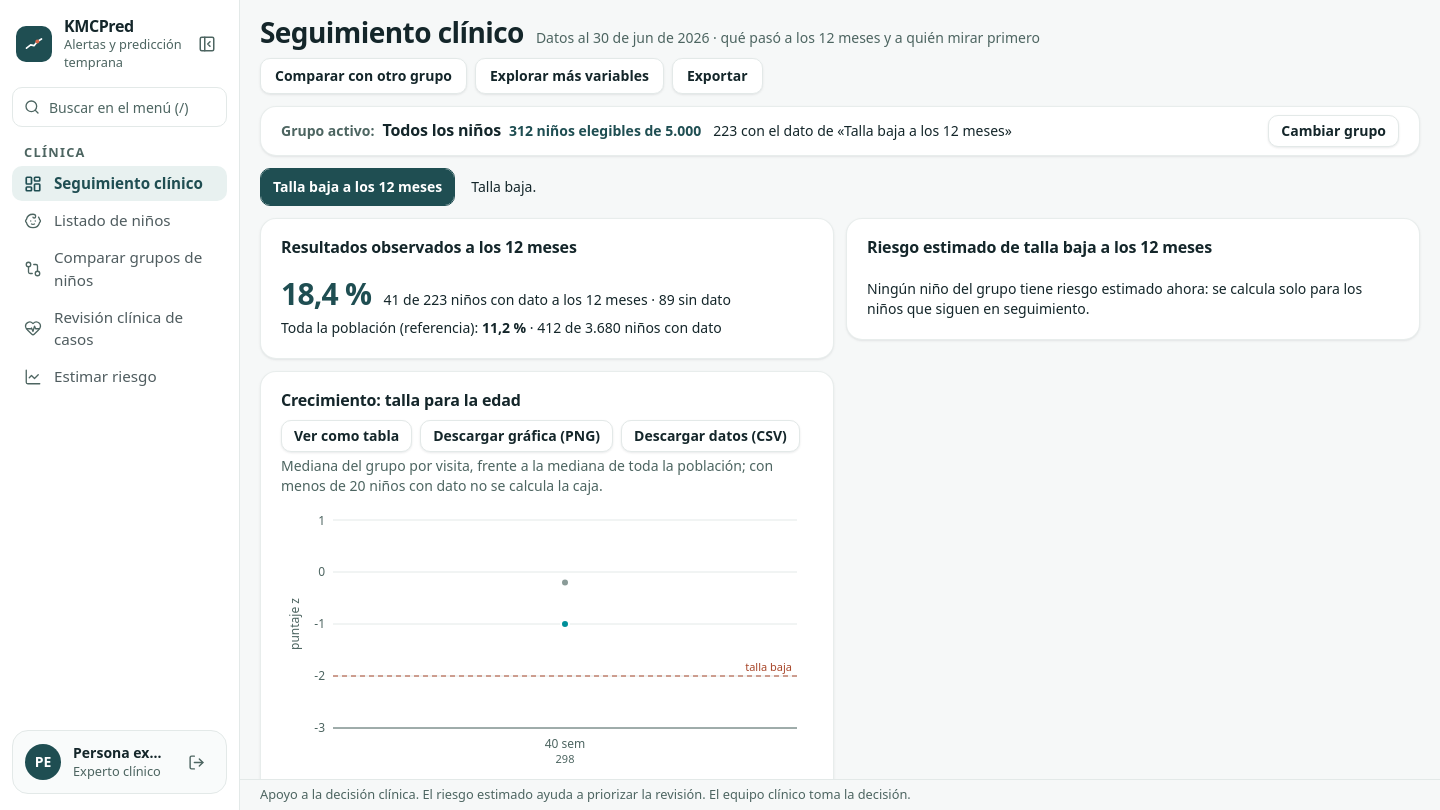
Scenario: el panel del grupo en la vista clínica es un cajón › el grupo guardado está arriba para un experto y quien solo consulta no lo ve; se habla de «grupo»
The width and height of the screenshot is (1440, 810).
Step 1. Click the button "Cambiar grupo" → coordinates (1334, 131), box [1268,115,1399,147]
(page scrolled)
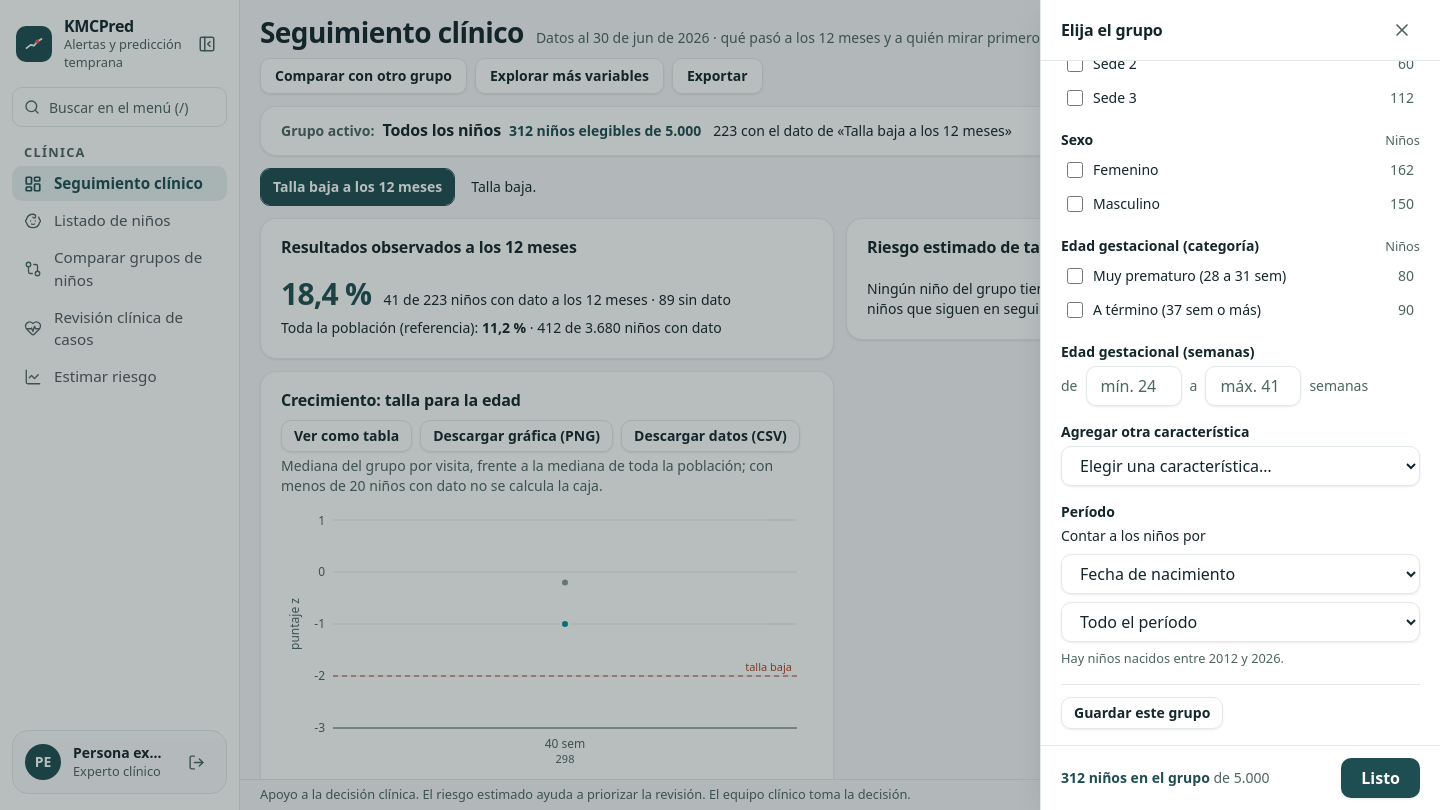
expect the button "Guardar este grupo" is shown: met, box [1061,697,1223,729]
